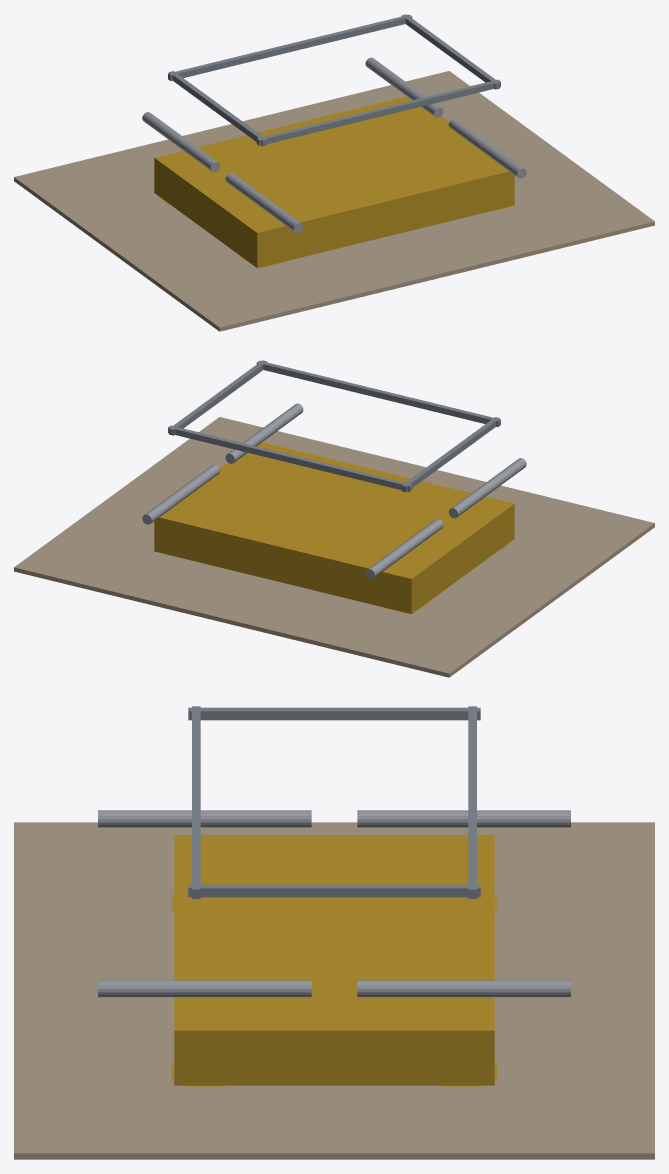
File: stage_05_beams.glb
The picture shows the model from 3 angles, top to bottom: view 1: azimuth 30°, elevation 25°; view 2: azimuth 150°, elevation 25°; view 3: azimuth 270°, elevation 25°; orthographic projection. The views are drawn at different scales.
Parts seen in each view (by area): view 1: world; view 2: world; view 3: world.
Boxes of the visible parts, x1=… form: world: x1=14, y1=14, x2=654, y2=331; world: x1=14, y1=360, x2=654, y2=677; world: x1=14, y1=706, x2=654, y2=1159.
Bounding box in the file's own units: 11 × 3.74 × 9.
